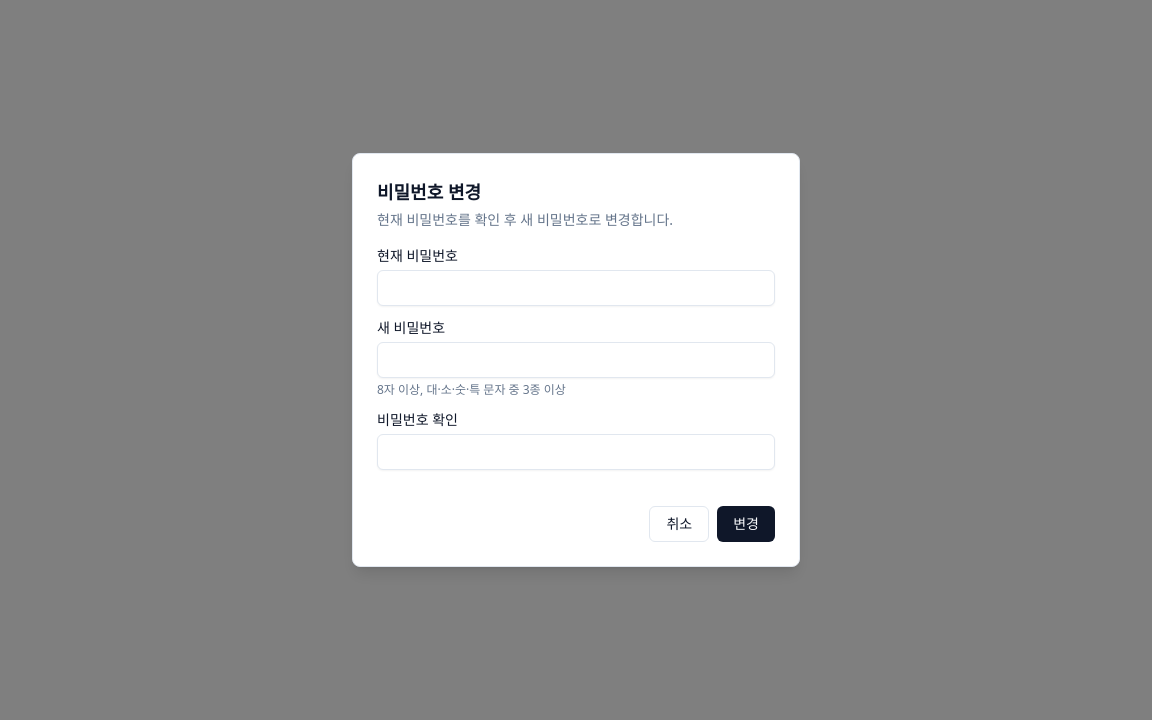
it: ChangePasswordDialog › shows CURRENT_PASSWORD_MISMATCH toast on 400 error
This screenshot has width=1152, height=720.
Type "WrongPass1!" into the password field labelled "현재 비밀번호" at [576, 288], box [377,270,775,306]
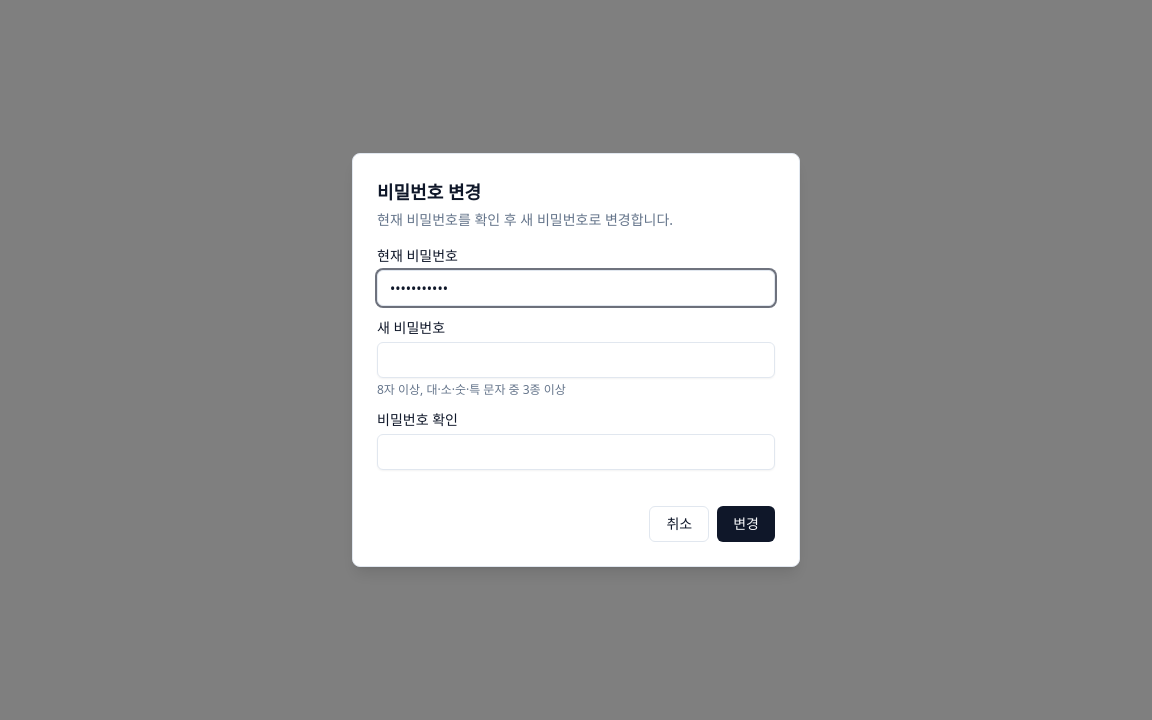
Type "NewPass2@" into the password field labelled "새 비밀번호" at [576, 360], box [377,342,775,378]
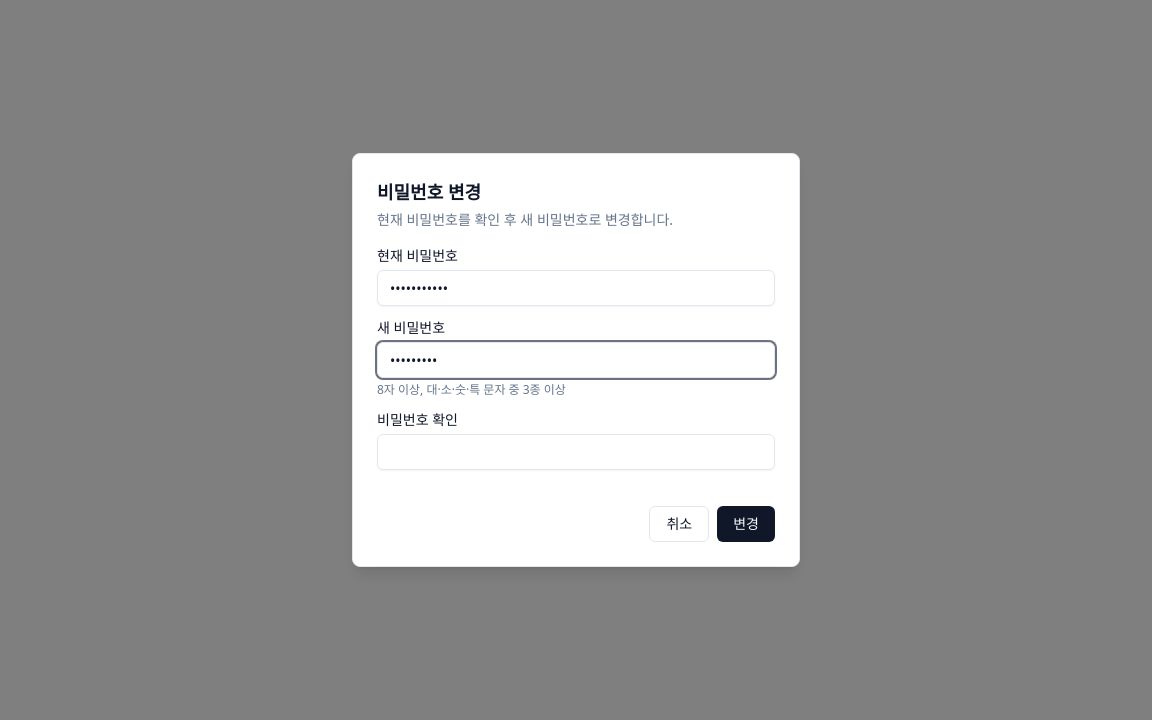
Type "NewPass2@" into the password field labelled "비밀번호 확인" at [576, 452], box [377,434,775,470]
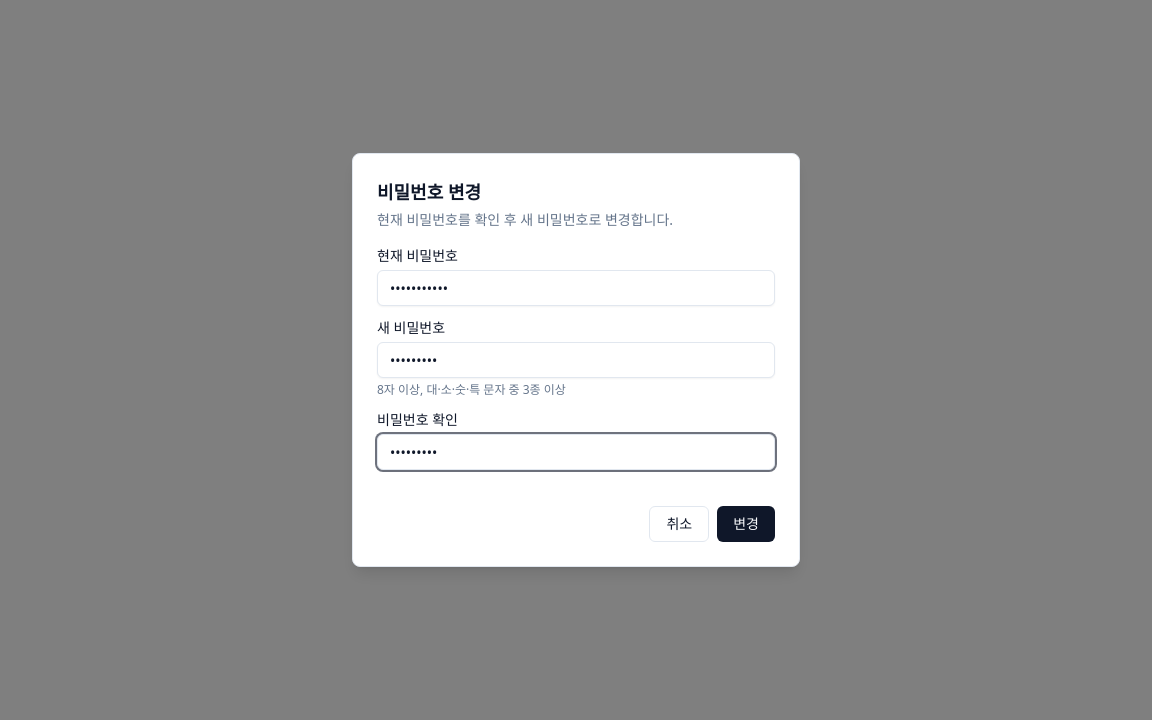
Click the button "변경" at [746, 524], box [717,506,775,542]
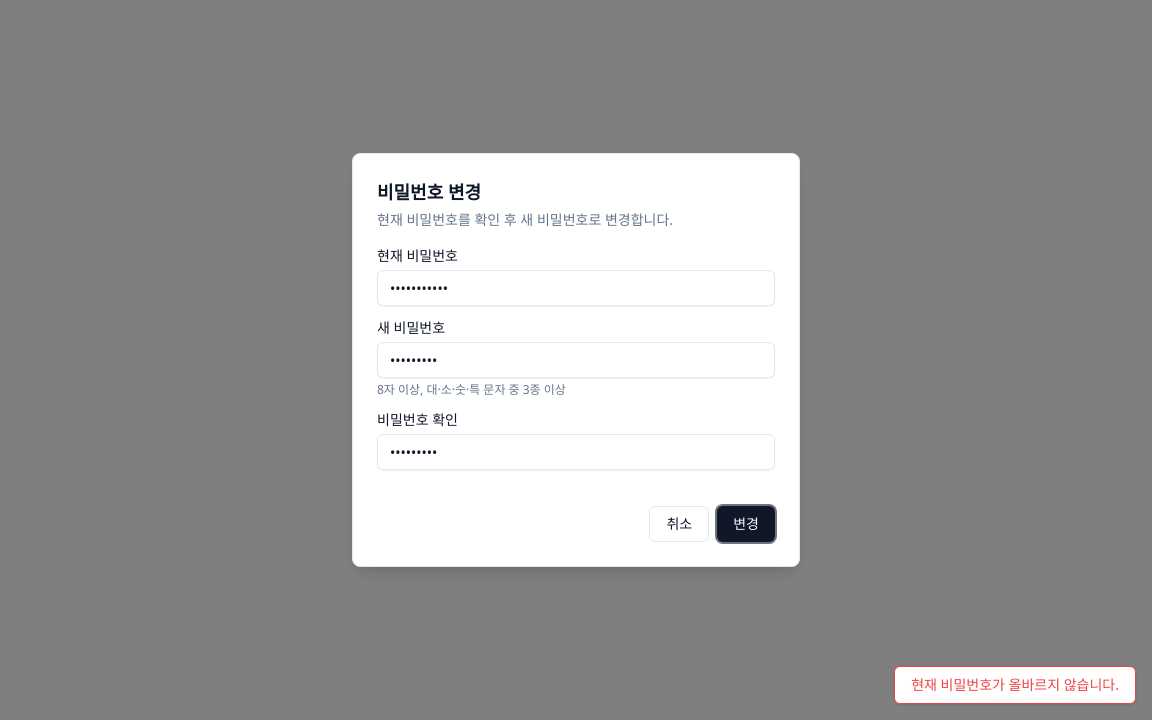
Expected: the text "현재 비밀번호가 올바르지 않습니다." is shown, [894,666,1136,704]
